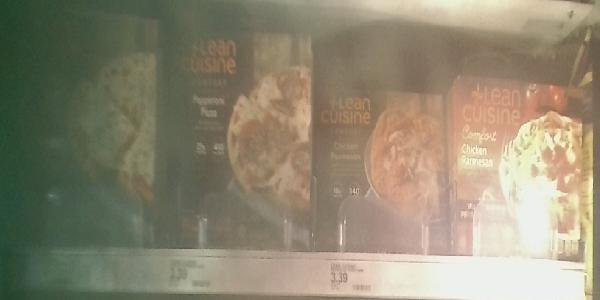pizza1: (3, 2, 154, 245), (156, 23, 311, 252), (455, 76, 588, 260), (314, 88, 451, 259)
